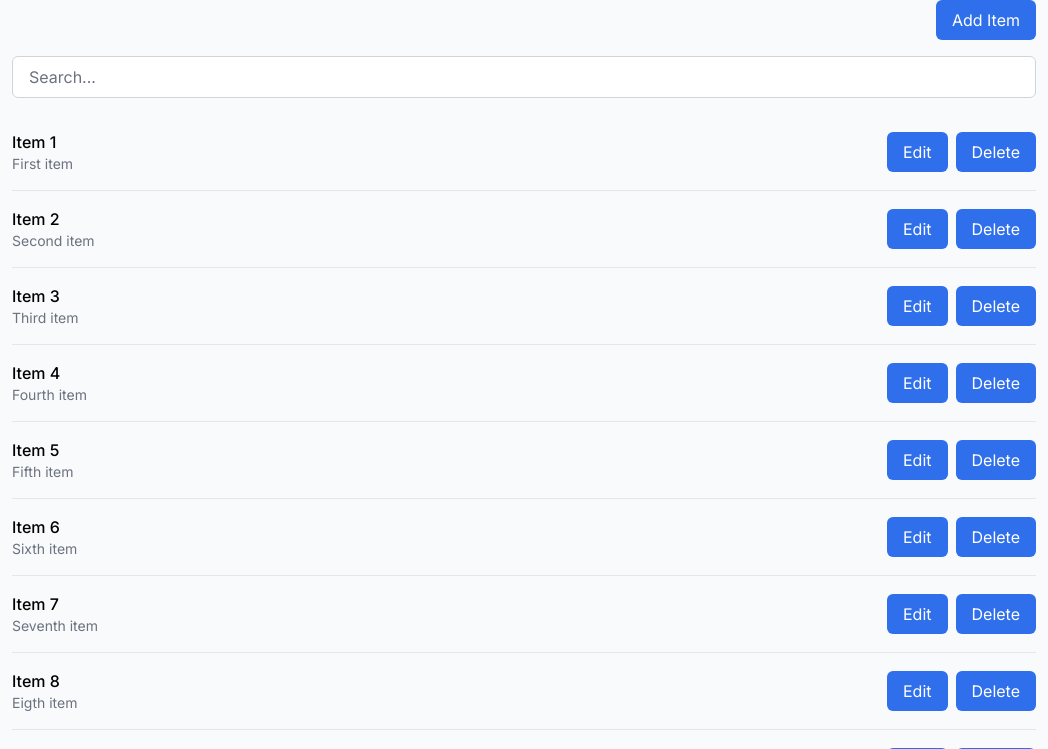
Test: renderList › should render empty state when no items match filter
# Search for non-existent item
Type "nonexistent item" into the field with placeholder "Search..." at (524, 77), box [12, 56, 1036, 98]
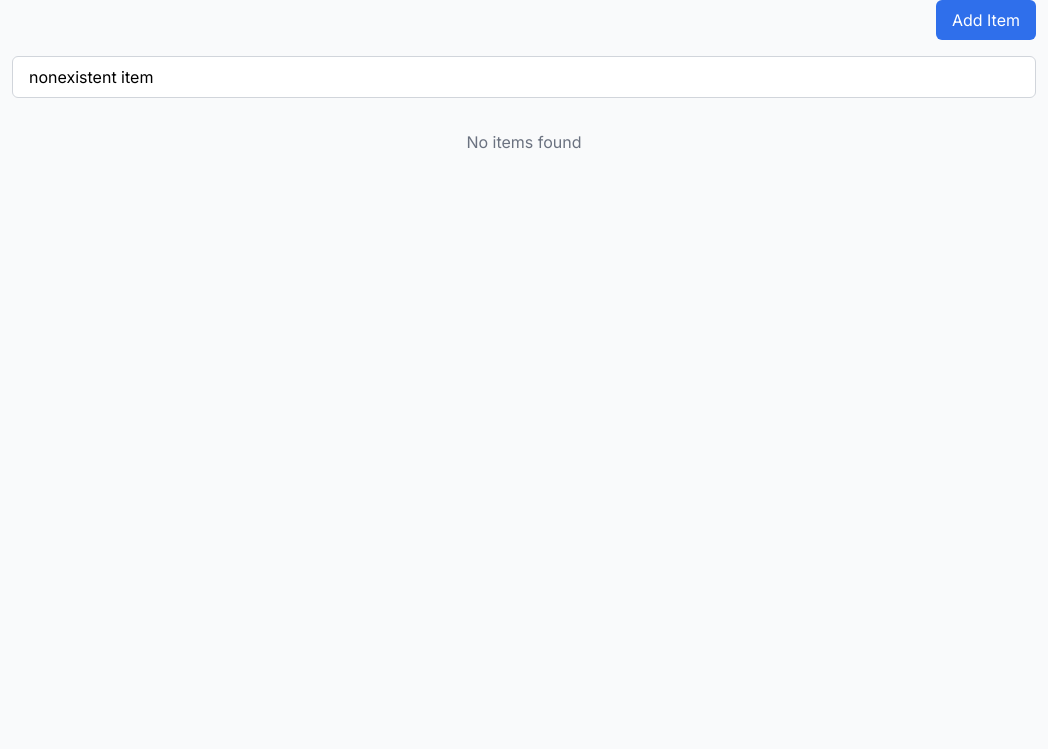
Expected: the text "No items found" is shown, [466, 132, 582, 152]
